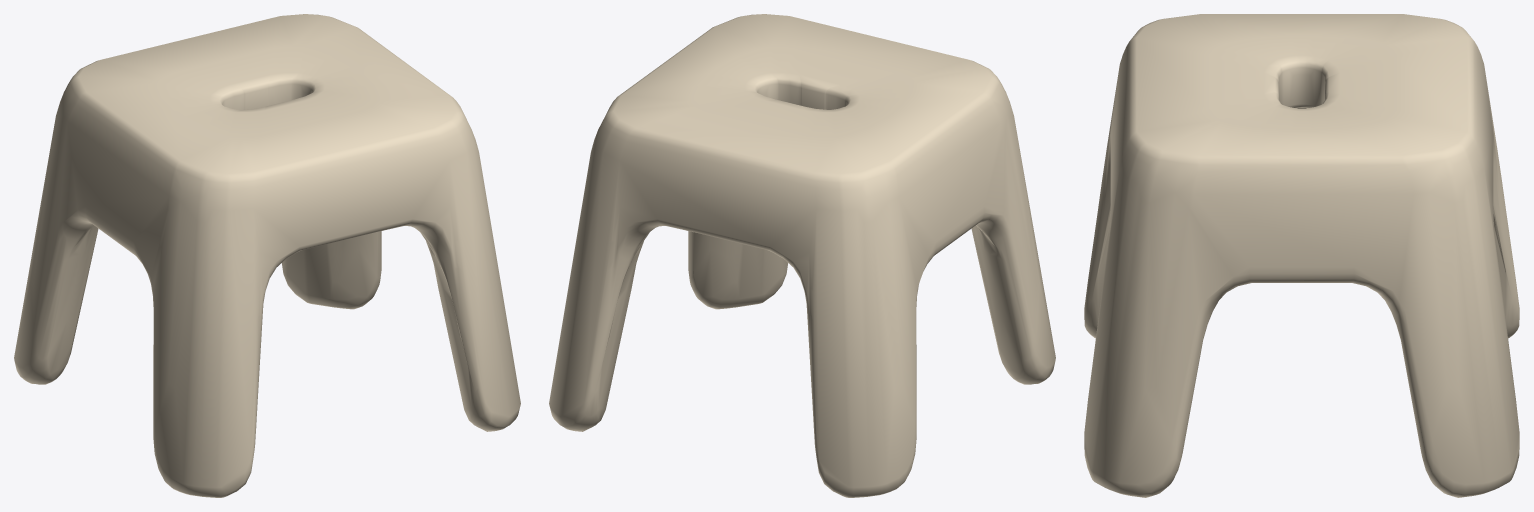
File: bath_stool.glb
3 views of the same model, side by side, from view 1: azimuth 30°, elevation 25°; view 2: azimuth 150°, elevation 25°; view 3: azimuth 270°, elevation 25° (orthographic). The views are drawn at different scales.
Parts seen in each view (by area): view 1: bath_stool; view 2: bath_stool; view 3: bath_stool.
Part boxes in pixels (x1,y1,x2,y2): bath_stool: [14, 14, 520, 497]; bath_stool: [549, 14, 1055, 497]; bath_stool: [1084, 14, 1519, 497].
Size of the model in its own units: 0.36 by 0.3 by 0.36.
